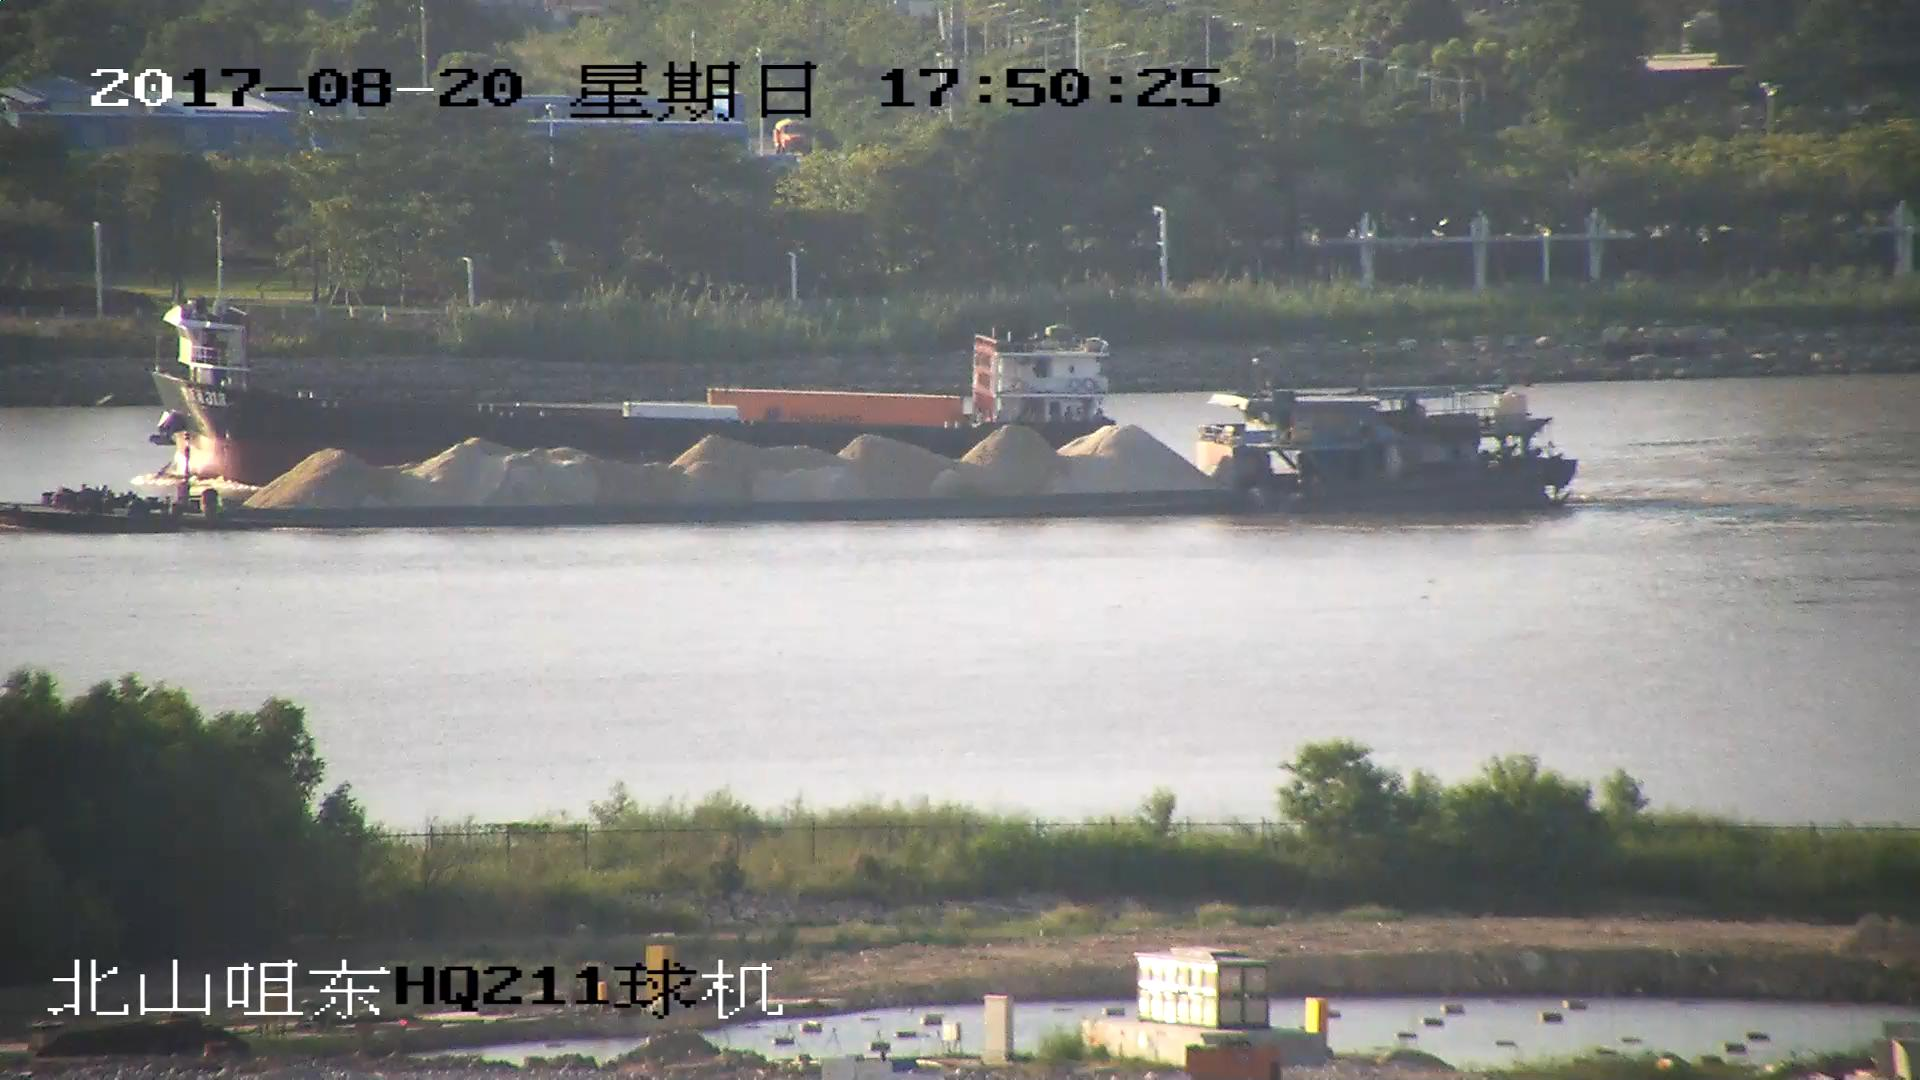general cargo ship: (151, 203, 1118, 490)
ore carrier: (1, 386, 1582, 518)
